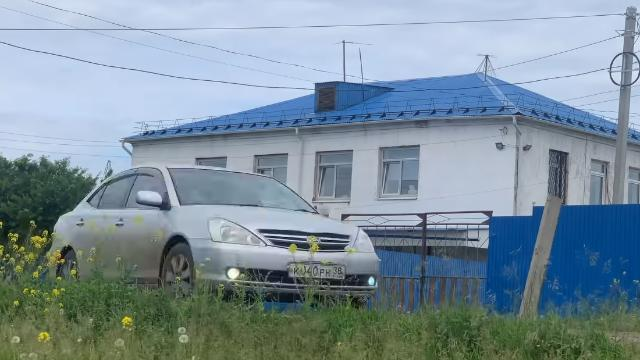non emergency car: (43, 164, 383, 305)
